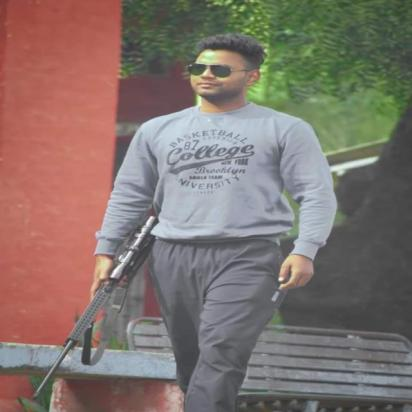Gun: (21, 201, 162, 403)
